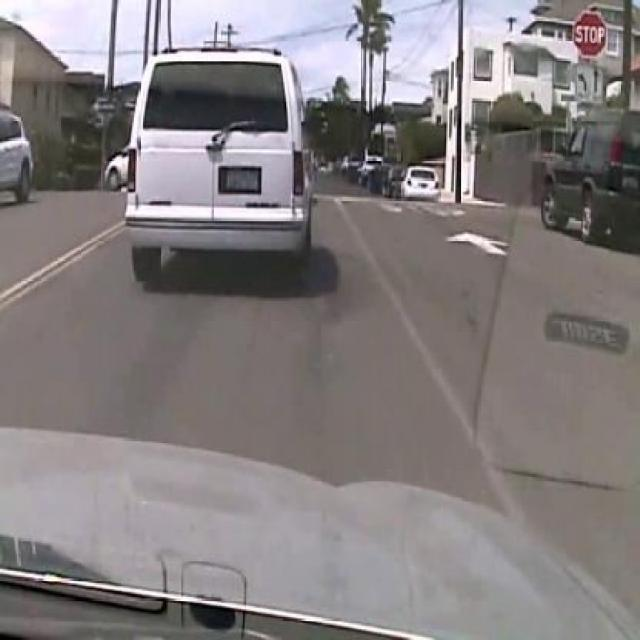traffic_sign: (572, 9, 608, 60)
